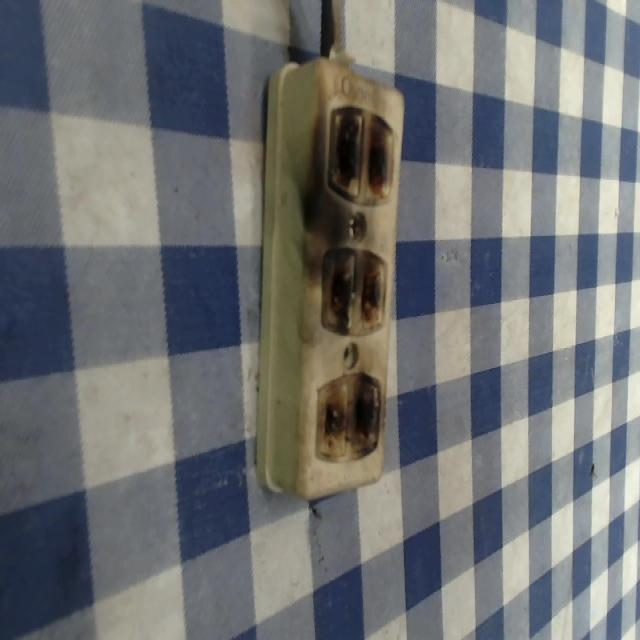-: (320, 100, 395, 204), (314, 244, 385, 341), (312, 368, 385, 460)
